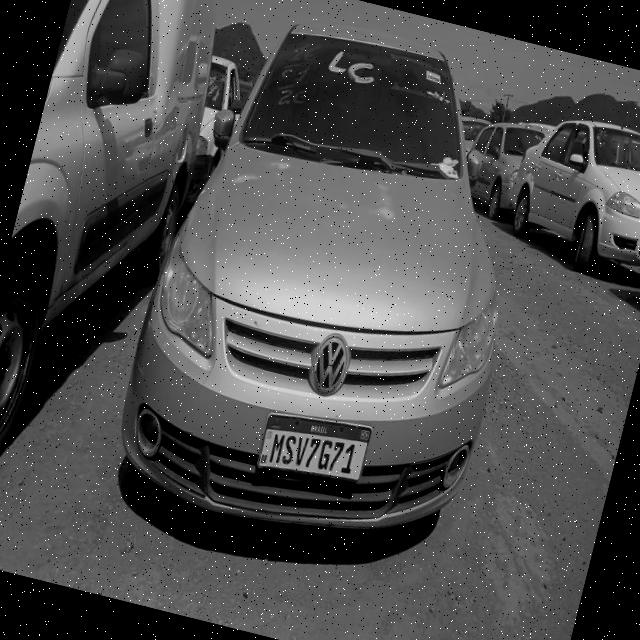numeros: (328, 439, 346, 473), (340, 441, 358, 475), (268, 432, 286, 465), (292, 434, 309, 468), (304, 436, 322, 468), (280, 434, 297, 466), (316, 438, 333, 470)
